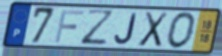7: (31, 5, 57, 46)
F: (53, 8, 85, 45)
J: (113, 12, 139, 45)
O: (165, 11, 198, 51)
X: (136, 11, 170, 49)
Z: (79, 8, 117, 47)
